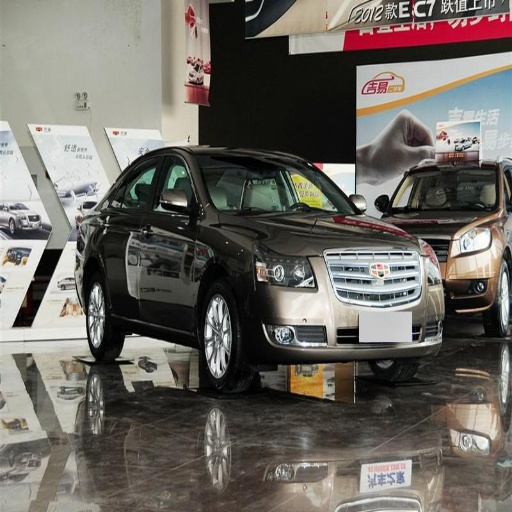front_bumper: (241, 251, 455, 360), (458, 255, 496, 311)
front_right_door: (139, 151, 196, 327)
front_right_light: (255, 244, 318, 289)
